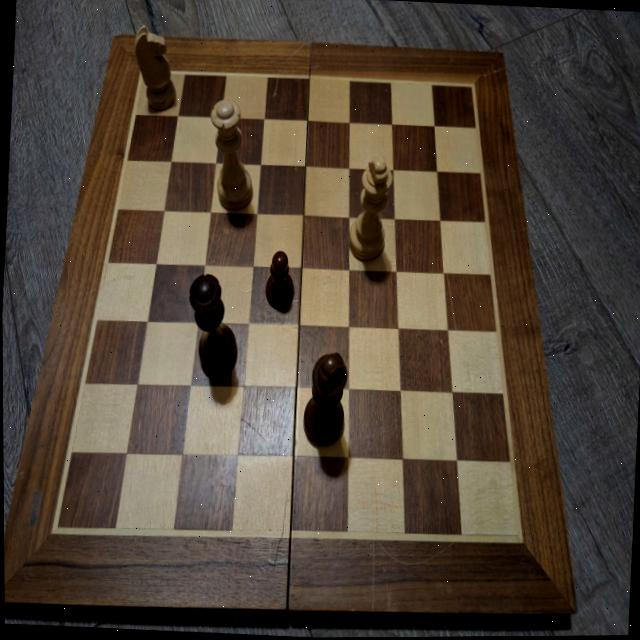black_king: (301, 352, 350, 447)
black_pawn: (263, 250, 296, 311)
black_queen: (186, 274, 241, 379)
white_king: (347, 155, 395, 263)
white_knight: (132, 25, 182, 112)
white_queen: (206, 99, 259, 213)
